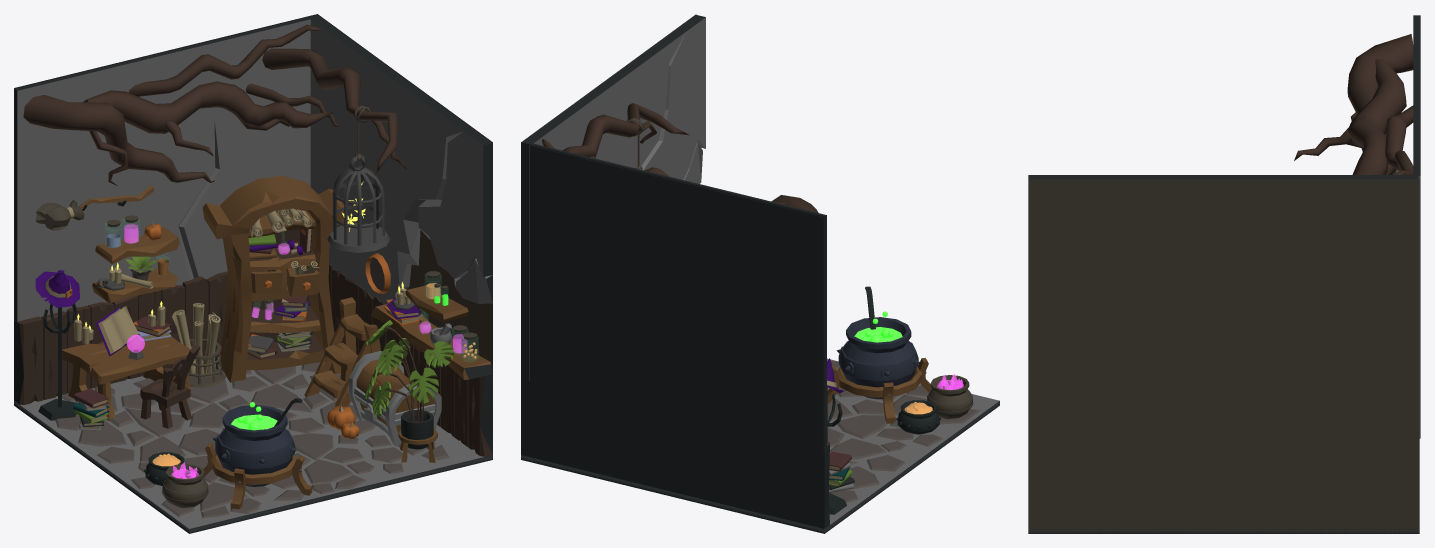
File: wizards_room.glb
3 renders of one model, left to right at view 1: azimuth 30°, elevation 25°; view 2: azimuth 150°, elevation 25°; view 3: azimuth 270°, elevation 25°, orthographic. The views are drawn at different scales.
Visible parts, largest first — view 1: pCube128, polySurface180, polySurface331, polySurface474, polySurface128, polySurface126, polySurface317, polySurface324, polySurface379, pCube24, polySurface224, pPlane6 (+26 smaller); view 2: pPlane2, polySurface180, polySurface126, polySurface474, polySurface224, polySurface331, pCube128, polySurface268, polySurface263, pSphere31, pPlane49, pCube210; view 3: pPlane6, polySurface331, polySurface126, polySurface180, pCube128.
Boxes of the visible parts, x1,y1,x2,y2 form: pCube128: [14, 17, 310, 321]; polySurface180: [308, 15, 492, 304]; polySurface331: [23, 24, 405, 185]; polySurface474: [55, 362, 449, 518]; polySurface128: [202, 176, 344, 382]; polySurface126: [14, 357, 492, 533]; polySurface317: [14, 271, 227, 404]; polySurface324: [328, 264, 492, 456]; polySurface379: [364, 320, 455, 449]; pCube24: [62, 336, 191, 420]; polySurface224: [215, 405, 295, 486]; pPlane6: [317, 14, 492, 373]; pPlane2: [521, 142, 824, 528]; polySurface180: [522, 15, 705, 183]; polySurface126: [521, 358, 999, 533]; polySurface474: [827, 360, 980, 503]; polySurface224: [838, 317, 918, 399]; polySurface331: [542, 103, 818, 212]; pCube128: [529, 143, 826, 452]; polySurface268: [827, 358, 931, 423]; polySurface263: [927, 375, 972, 419]; pSphere31: [896, 400, 941, 434]; pPlane49: [829, 451, 854, 492]; pCube210: [854, 311, 902, 342]; pPlane6: [1028, 179, 1419, 533]; polySurface331: [1294, 34, 1413, 174]; polySurface126: [1028, 528, 1419, 533]; polySurface180: [1028, 175, 1418, 179]; pCube128: [1413, 15, 1420, 438].
Bounding box in the file's own units: 3.2 × 3.2 × 3.21.
